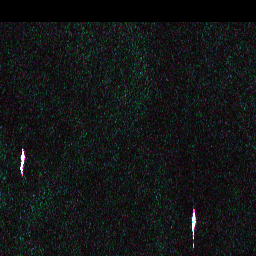ship: (17, 150, 27, 172), (189, 211, 198, 231)
